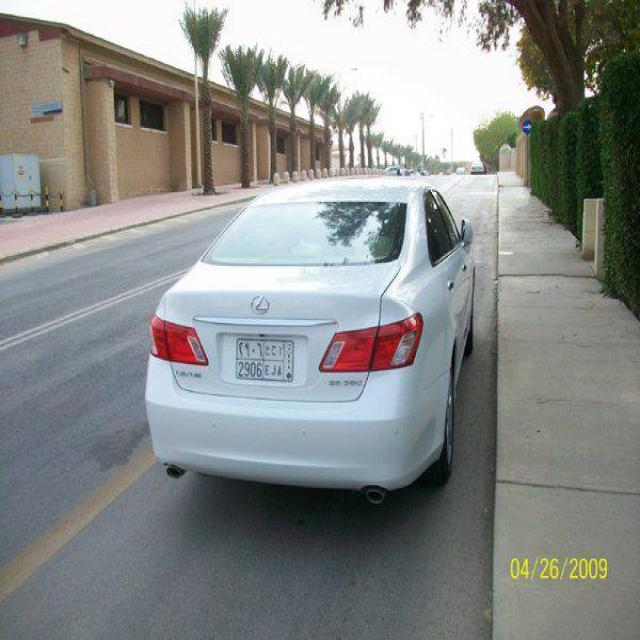license_plate: (232, 334, 294, 381)
